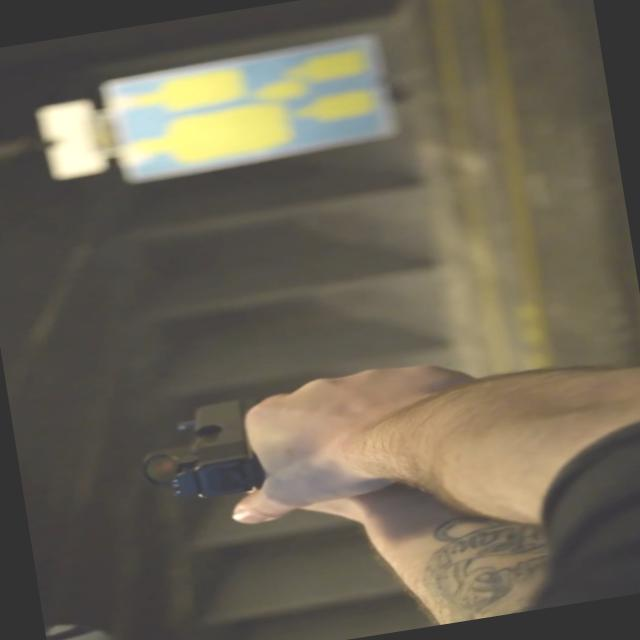handgun: (115, 372, 411, 514)
